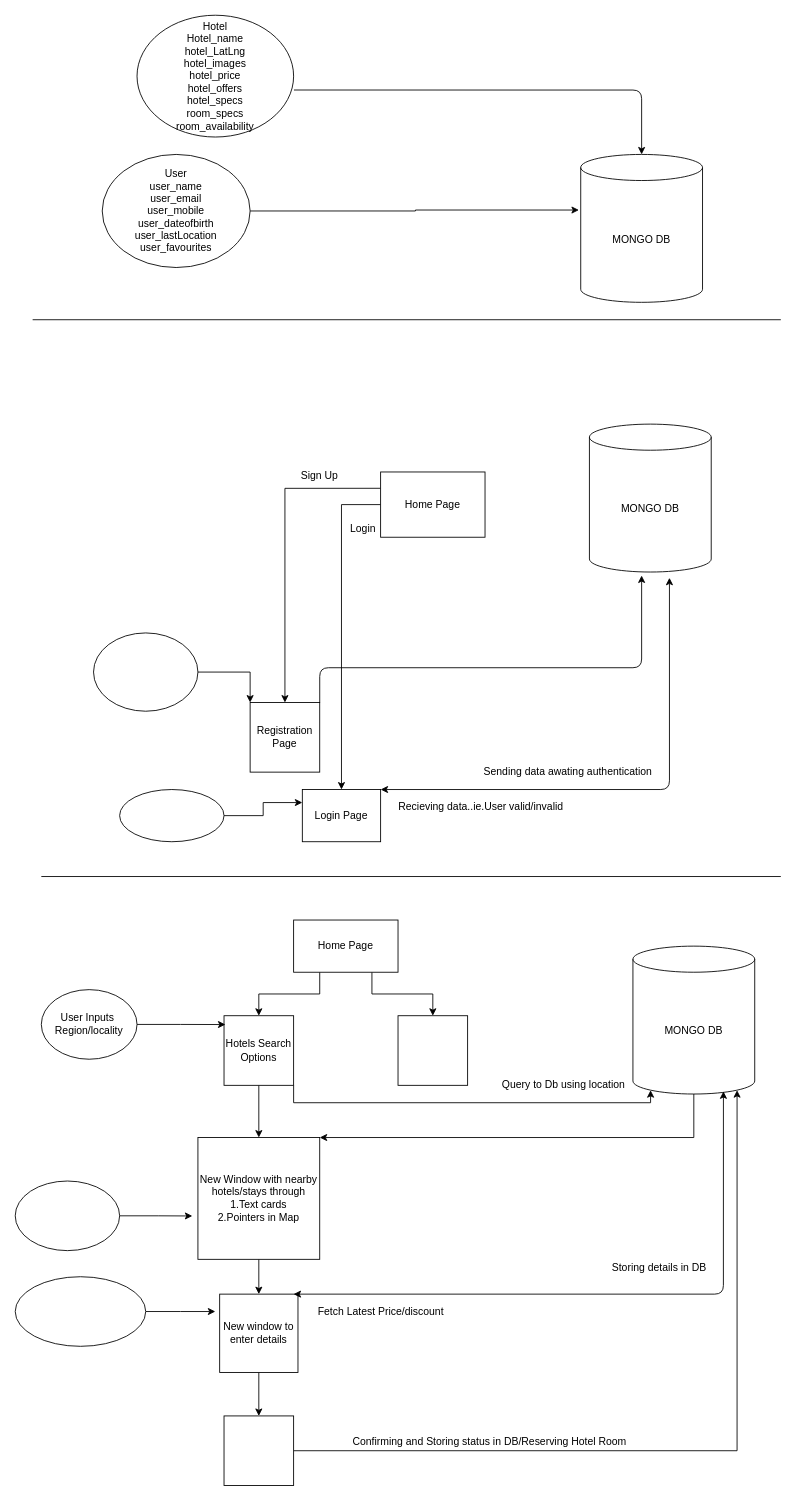
This 797x1501 diagram has some shape labels left out. Here are the shapes that lost their labels. From the top down, the centre of each, then its label:
At pixel 145 671: "Name Mobile Email Password Date of birth".
At pixel 171 815: "Email Password".
At pixel 432 1050: "Top Hotels Section".
At pixel 67 1215: "Selection of a hotel".
At pixel 80 1311: "Number of travellers Name Age mobile".
At pixel 258 1450: "Payment Gateway".
